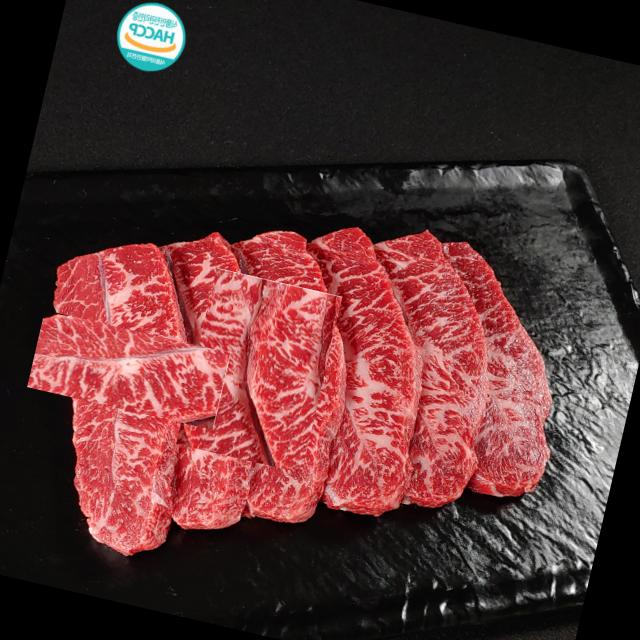beef: (312, 276, 488, 506), (175, 267, 342, 473), (47, 288, 209, 451)
